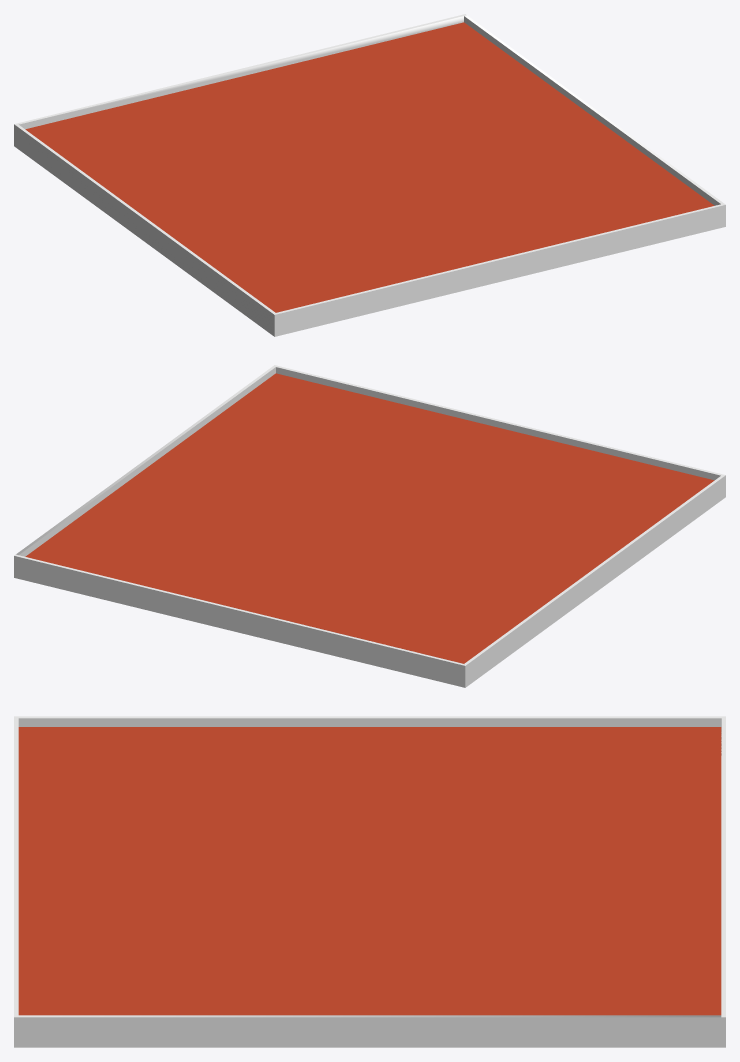
Rendered from SmallJunction.fbx.
3 renders of one model, top to bottom at view 1: azimuth 30°, elevation 25°; view 2: azimuth 150°, elevation 25°; view 3: azimuth 270°, elevation 25°, orthographic. The views are drawn at different scales.
Visible parts, largest first — view 1: load; view 2: load; view 3: load.
Part boxes in pixels (x1,y1,x2,y2): load: [14, 14, 725, 336]; load: [14, 365, 725, 687]; load: [14, 716, 725, 1047].
Size of the model in its own units: 7500 by 350 by 7500.
